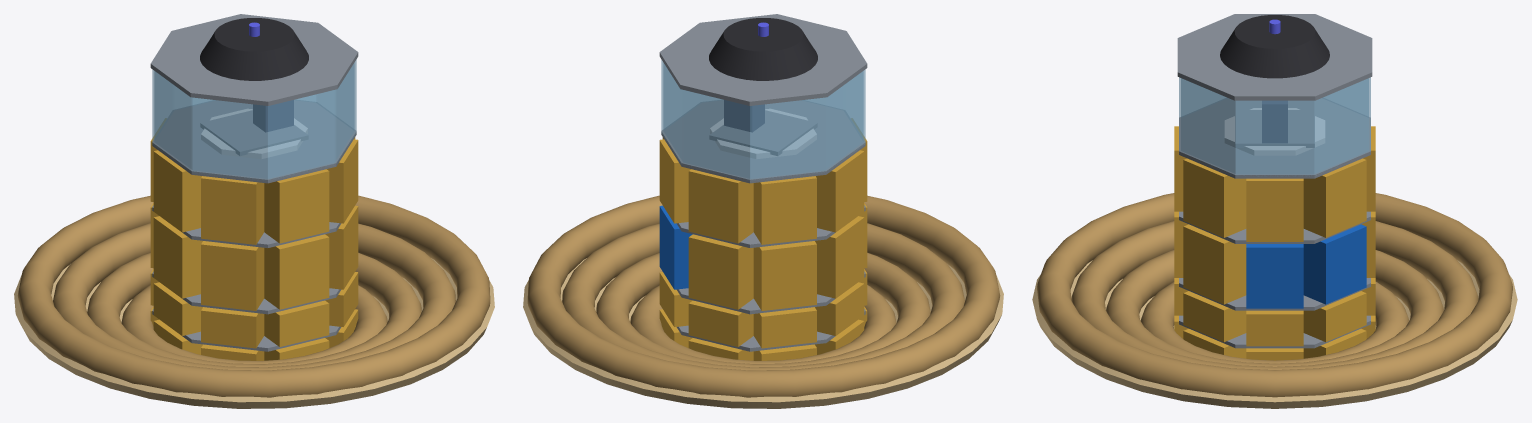
Rendered from LELP-1-entry.glb.
3 views of the same model, side by side, from view 1: azimuth 30°, elevation 25°; view 2: azimuth 150°, elevation 25°; view 3: azimuth 270°, elevation 25° (orthographic).
Visible parts, largest first — view 1: inflatable_torus_4, central_chamber_wall, inflatable_torus_3, chamber_lid, bay_ring_5_top, inflatable_torus_2, flexible_TPS, parachute_canister_9_m_main, bay_L_23, bay_L_22, bay_L_31, bay_L_30 (+19 smaller); view 2: inflatable_torus_4, central_chamber_wall, inflatable_torus_3, chamber_lid, bay_ring_5_top, inflatable_torus_2, flexible_TPS, parachute_canister_9_m_main, bay_L_19, bay_L_20, bay_L_27, bay_L_28 (+19 smaller); view 3: inflatable_torus_4, central_chamber_wall, inflatable_torus_3, chamber_lid, bay_ring_5_top, inflatable_torus_2, flexible_TPS, parachute_canister_9_m_main, inflatable_torus_1, bay_L_18, bay_L_24, bay_L_26 (+19 smaller).
Part boxes in pixels (x1,y1,x2,y2): inflatable_torus_4: (17,195,490,397); central_chamber_wall: (152,60,356,180); inflatable_torus_3: (53,223,455,370); chamber_lid: (150,14,358,105); bay_ring_5_top: (152,100,356,183); inflatable_torus_2: (87,253,421,367); flexible_TPS: (14,258,494,408); parachute_canister_9_m_main: (200,18,308,80); bay_L_23: (264,234,329,309); bay_L_22: (201,241,264,310); bay_L_31: (264,169,329,243); bay_L_30: (201,176,264,244); inflatable_torus_4: (527,195,1000,397); central_chamber_wall: (661,60,865,180); inflatable_torus_3: (562,223,964,370); chamber_lid: (659,14,867,105); bay_ring_5_top: (661,100,865,183); inflatable_torus_2: (596,253,930,367); flexible_TPS: (523,258,1003,408); parachute_canister_9_m_main: (709,18,817,80); bay_L_19: (688,234,753,309); bay_L_20: (753,241,816,310); bay_L_27: (688,169,753,243); bay_L_28: (753,176,816,244); inflatable_torus_4: (1037,193,1512,397); central_chamber_wall: (1179,77,1370,176); inflatable_torus_3: (1071,221,1478,369); chamber_lid: (1177,14,1372,100); bay_ring_5_top: (1179,98,1370,178); inflatable_torus_2: (1106,250,1443,366); flexible_TPS: (1032,260,1517,408); parachute_canister_9_m_main: (1220,15,1329,78); inflatable_torus_1: (1140,282,1409,363); bay_L_18: (1303,224,1366,304); bay_L_24: (1183,224,1246,304); bay_L_26: (1303,158,1366,237).
Bounding box in the file's own units: 2.64 × 2.11 × 2.64.
